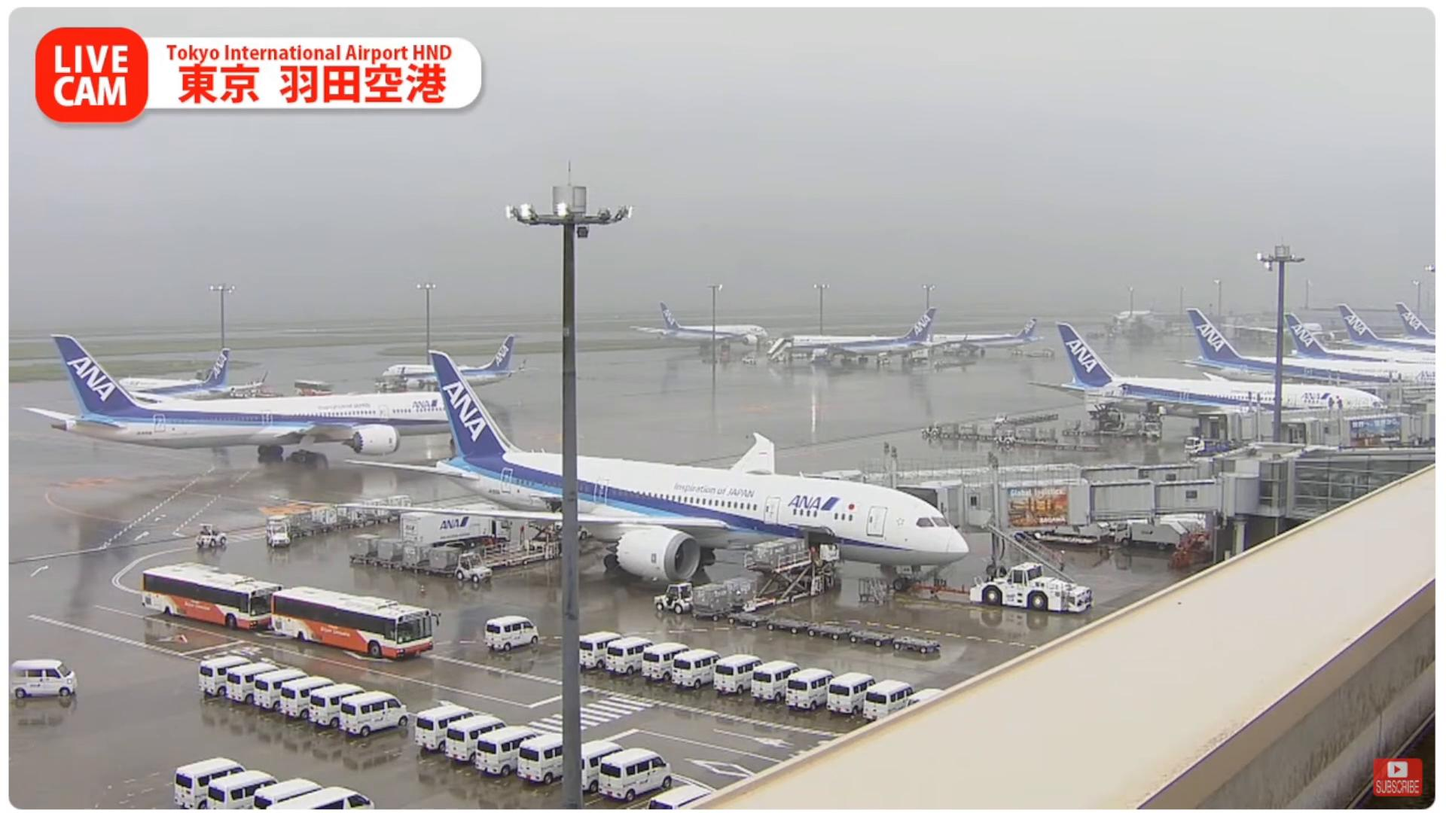APS: (968, 562, 1094, 614)
Aerobridge: (892, 474, 1261, 535), (796, 455, 1210, 487)
Airplane: (270, 351, 970, 592)
Catering: (400, 500, 512, 548)
Dolly: (692, 605, 940, 654), (286, 511, 400, 537), (348, 552, 451, 576)
JCPL: (727, 554, 833, 609), (475, 521, 563, 568)
Tractor: (653, 582, 699, 614), (452, 552, 488, 582), (193, 523, 227, 548), (266, 522, 291, 549)
Window: (1292, 458, 1433, 516)
